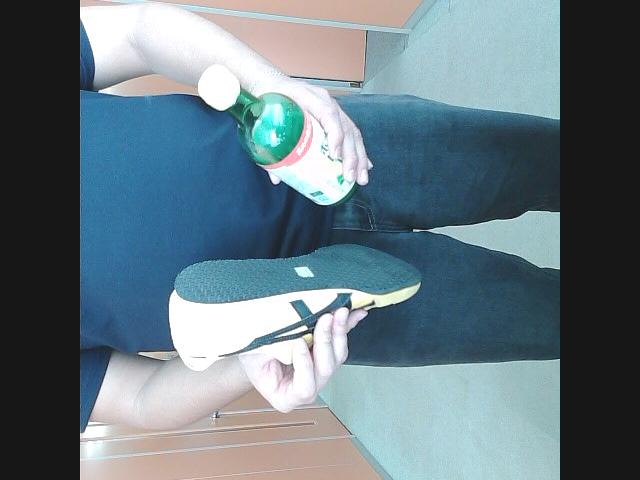Lemon_sapporo: (198, 65, 366, 207)
Shoes: (168, 240, 422, 374)
